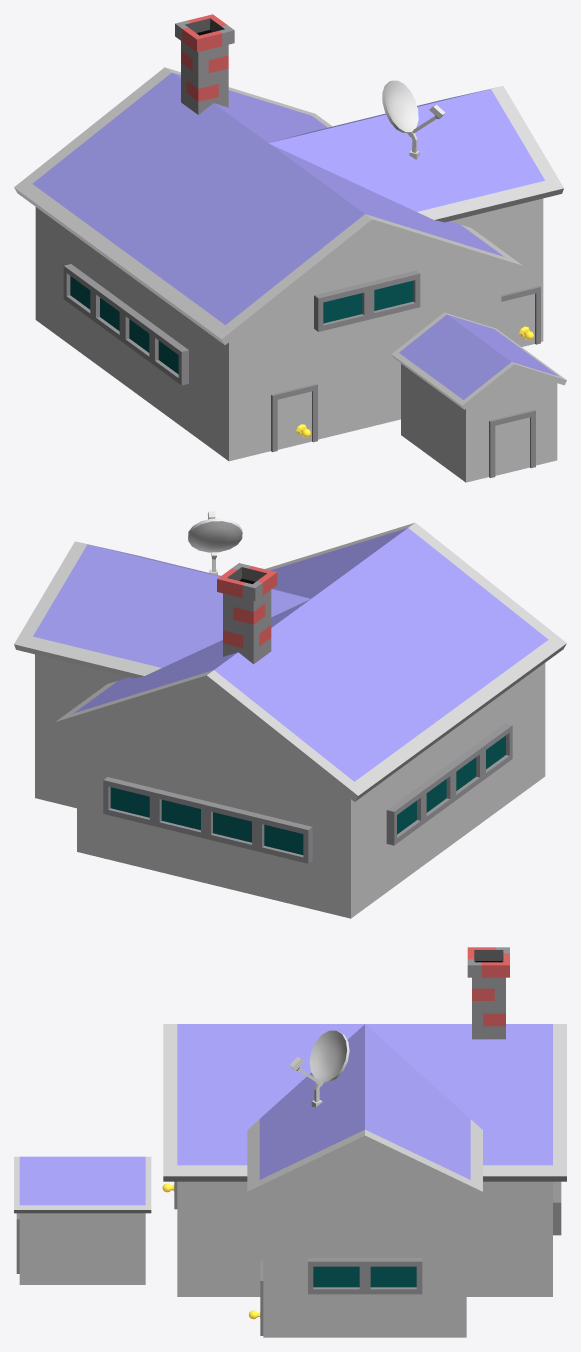
Rendered from building_house_B.fbx.
The picture shows the model from 3 angles, top to bottom: view 1: azimuth 30°, elevation 25°; view 2: azimuth 150°, elevation 25°; view 3: azimuth 270°, elevation 25°; orthographic projection. The views are drawn at different scales.
Parts seen in each view (by area): view 1: building_house_B, addon, shed, windows, chimney, door1, door2, pCylinder7; view 2: building_house_B, addon, windows, chimney, pCylinder7; view 3: building_house_B, addon, shed, windows, chimney, pCylinder7.
Boxes of the visible parts, x1,y1,x2,y2 form: building_house_B: (14, 67, 522, 461); addon: (269, 86, 563, 341); shed: (391, 312, 566, 482); windows: (63, 264, 420, 385); chimney: (175, 14, 234, 114); door1: (271, 383, 317, 452); door2: (501, 286, 540, 346); pCylinder7: (382, 80, 418, 132); building_house_B: (55, 522, 566, 918); addon: (14, 541, 310, 808); windows: (103, 723, 512, 863); chimney: (217, 563, 277, 664); pCylinder7: (188, 518, 242, 552); building_house_B: (163, 1024, 566, 1296); addon: (247, 1024, 482, 1337); shed: (14, 1156, 151, 1284); windows: (308, 1181, 561, 1294); chimney: (467, 947, 509, 1039); pCylinder7: (309, 1030, 349, 1082).
Bounding box in the file's own units: 15.47 × 10.88 × 19.76.
